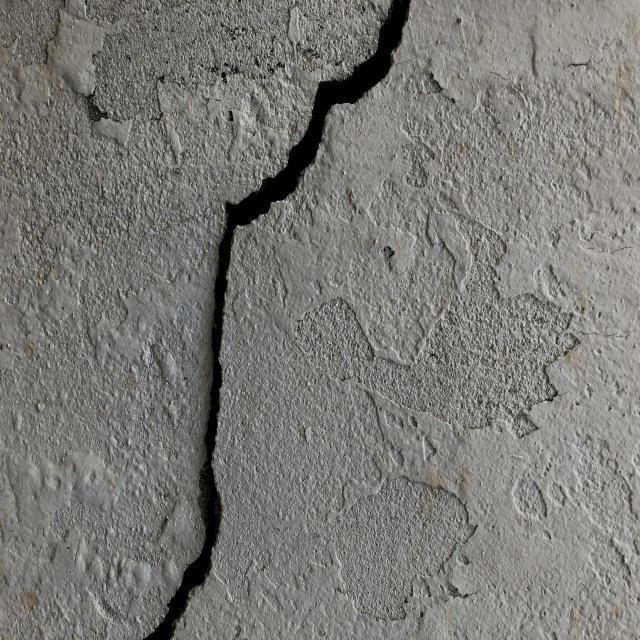SurfaceCrack: (105, 1, 454, 640)
